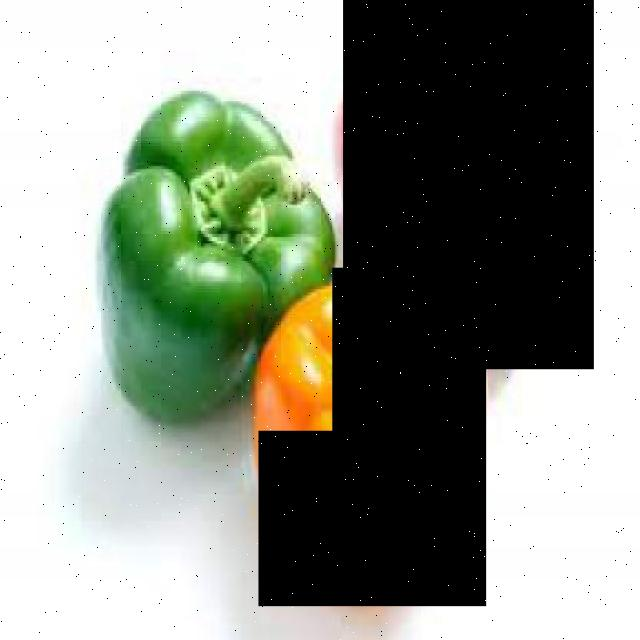Capsicum: (40, 59, 332, 430), (343, 0, 594, 369), (259, 268, 486, 606)
